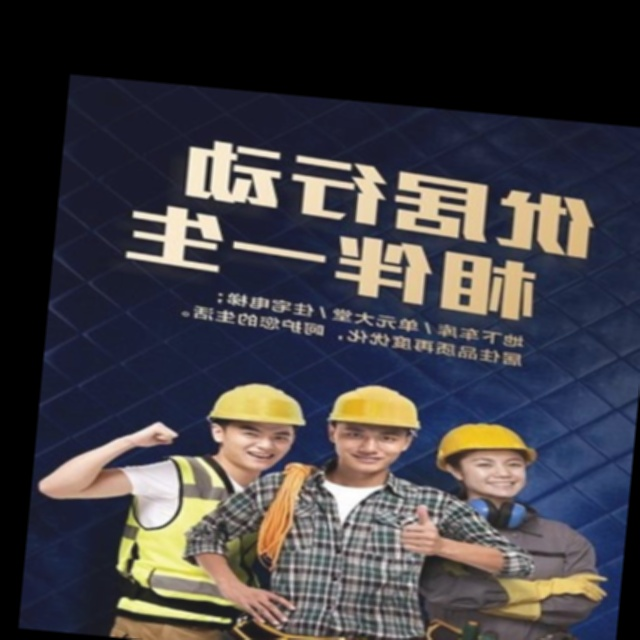Con_Casco: (321, 381, 420, 471), (436, 419, 546, 497), (209, 377, 306, 465)
